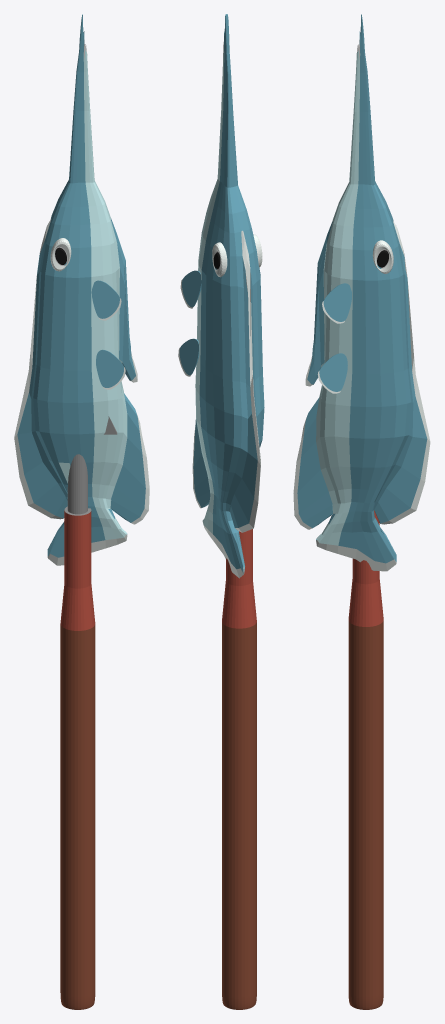
Rendered from model_Sword_Fish.fbx.
3 views of the same model, side by side, from view 1: azimuth 90°, elevation 25°; view 2: azimuth 210°, elevation 25°; view 3: azimuth 270°, elevation 25° (orthographic).
Parts seen in each view (by area): view 1: Cylinder; view 2: Cylinder; view 3: Cylinder.
Boxes of the visible parts, <box> form: Cylinder: <box>14,14,149,1009</box>; Cylinder: <box>178,14,264,1009</box>; Cylinder: <box>293,14,430,1009</box>.
Size of the model in its own units: 14.38 by 250 by 31.24.
